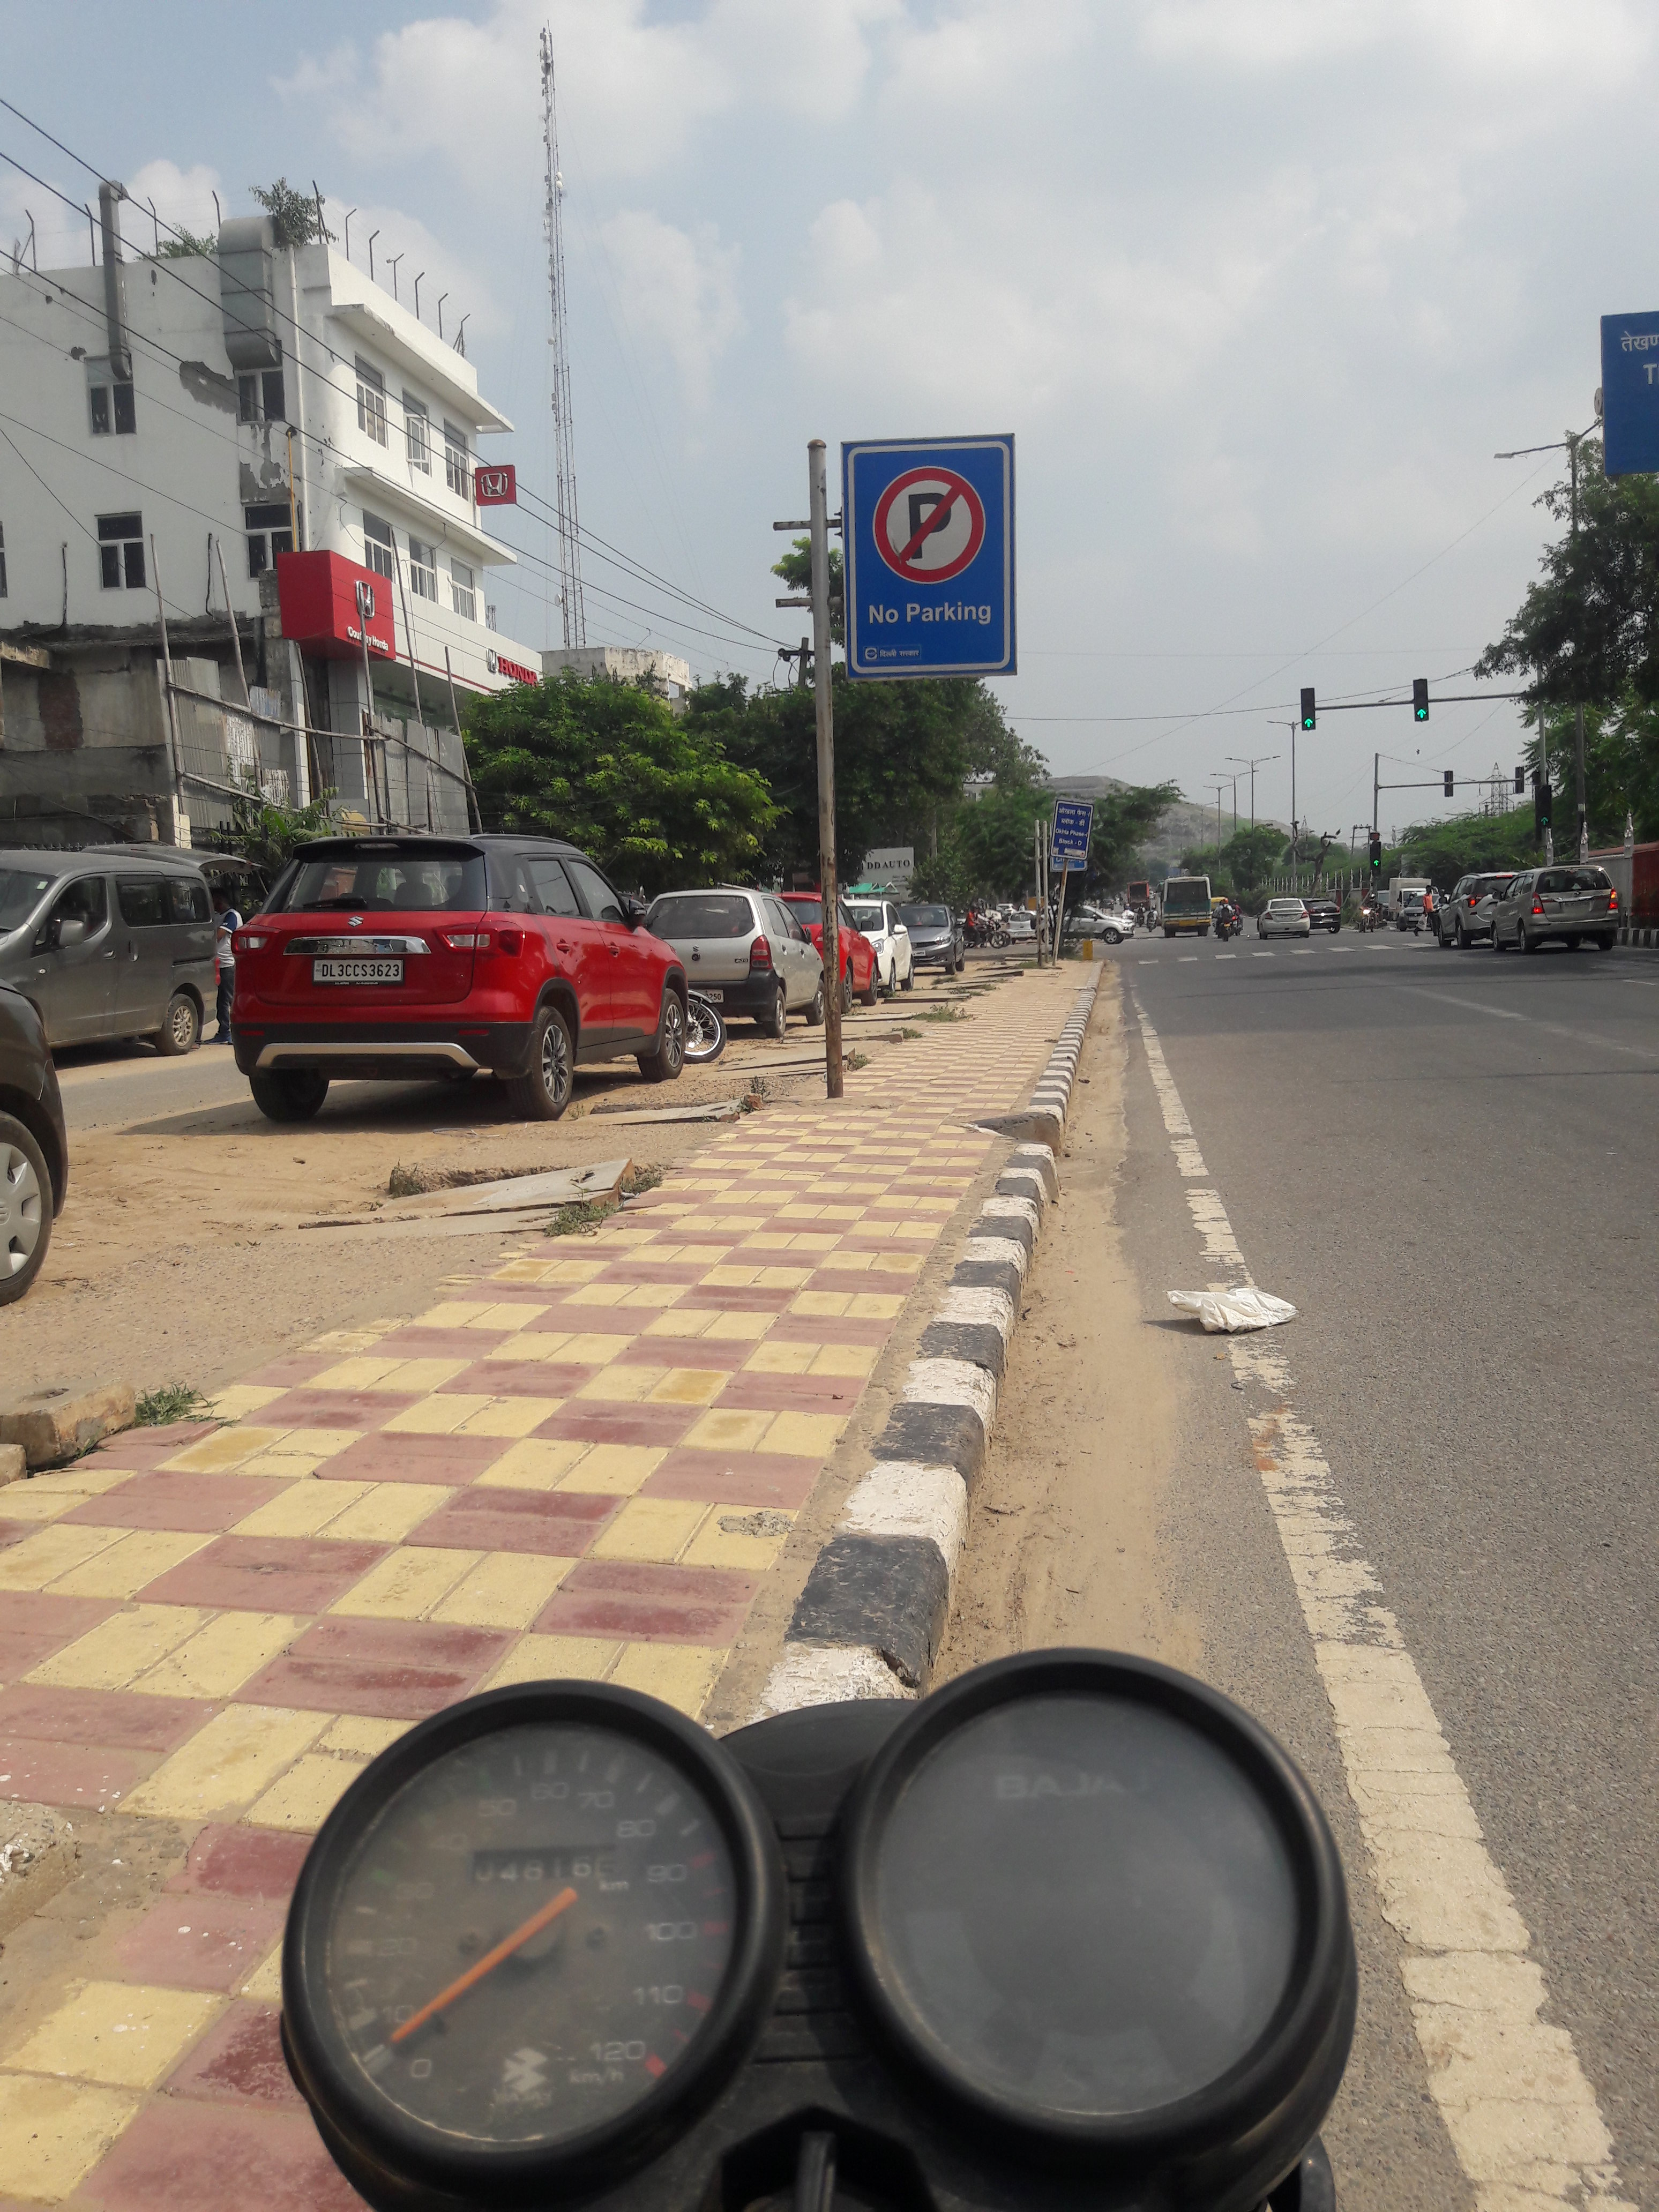traffic_sign: (835, 428, 1021, 676), (1534, 784, 1553, 827), (1413, 678, 1429, 721), (1300, 688, 1316, 730), (1370, 841, 1382, 873)
